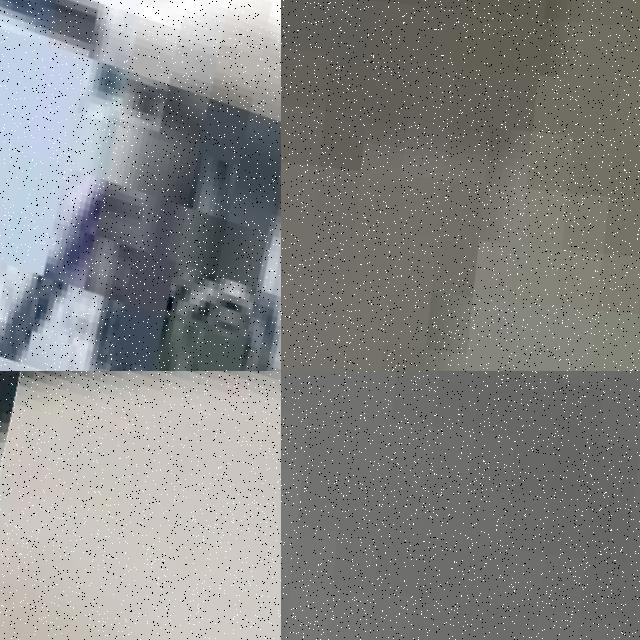drone: (0, 0, 281, 371), (0, 371, 281, 640)
